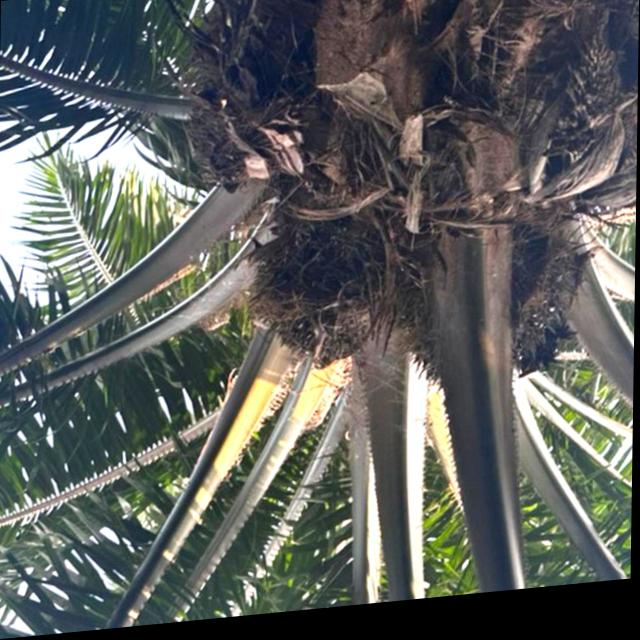unripe: (245, 226, 405, 378)
